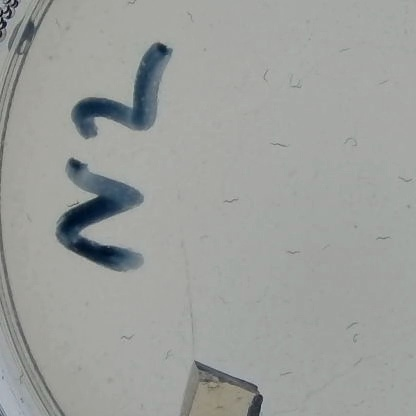worm: (286, 73, 305, 92), (267, 141, 293, 154), (344, 133, 364, 149), (395, 172, 416, 186), (258, 67, 274, 85), (373, 230, 393, 244), (183, 7, 198, 25), (336, 44, 355, 58), (118, 331, 138, 343), (160, 347, 175, 362), (21, 212, 37, 226), (374, 77, 393, 88), (216, 293, 232, 306), (278, 370, 298, 380), (343, 320, 361, 331), (353, 355, 366, 370), (351, 398, 368, 409), (349, 332, 363, 345), (49, 16, 63, 29), (222, 197, 241, 206), (287, 247, 302, 258), (123, 0, 141, 9), (196, 232, 215, 240), (321, 241, 332, 254)
